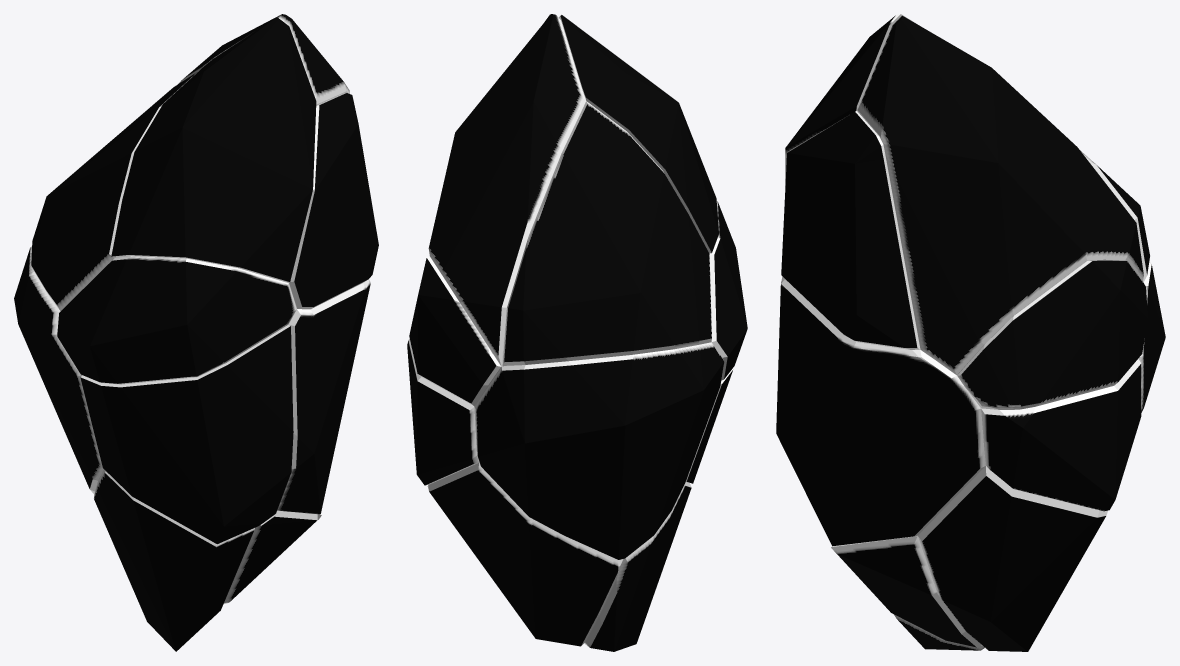
Rendered from CristalBroken.fbx.
The picture shows the model from 3 angles, left to right: view 1: azimuth 30°, elevation 25°; view 2: azimuth 150°, elevation 25°; view 3: azimuth 270°, elevation 25°; orthographic projection. The views are drawn at different scales.
Parts seen in each view (by area): view 1: Cube_cell.001, Cube_cell.008, Cube_cell.009, Cube_cell, Cube_cell.014, Cube_cell.015, Cube_cell.003, Cube_cell.011, Cube_cell.004, Cube_cell.007; view 2: Cube_cell.011, Cube_cell.003, Cube_cell.007, Cube_cell.006, Cube_cell.001, Cube_cell.012, Cube_cell.013, Cube_cell, Cube_cell.009, Cube_cell.008; view 3: Cube_cell.007, Cube_cell.015, Cube_cell.014, Cube_cell.006, Cube_cell.012, Cube_cell.013, Cube_cell.004, Cube_cell.001, Cube_cell.011, Cube_cell.003, Cube_cell.
Boxes of the visible parts, x1,y1,x2,y2 form: Cube_cell.001: (111, 17, 316, 282); Cube_cell.008: (80, 324, 293, 544); Cube_cell.009: (57, 256, 296, 384); Cube_cell: (94, 469, 254, 651); Cube_cell.014: (289, 93, 378, 309); Cube_cell.015: (277, 279, 370, 514); Cube_cell.003: (31, 71, 198, 311); Cube_cell.011: (14, 246, 103, 494); Cube_cell.004: (223, 510, 321, 604); Cube_cell.007: (178, 14, 349, 105); Cube_cell.011: (474, 342, 724, 559); Cube_cell.003: (502, 101, 711, 365); Cube_cell.007: (428, 14, 585, 366); Cube_cell.006: (427, 463, 623, 646); Cube_cell.001: (558, 15, 718, 253); Cube_cell.012: (409, 256, 501, 406); Cube_cell.013: (407, 339, 501, 485); Cube_cell: (584, 481, 691, 651); Cube_cell.009: (709, 201, 747, 380); Cube_cell.008: (686, 367, 733, 483); Cube_cell.007: (857, 15, 1143, 375); Cube_cell.015: (776, 276, 985, 546); Cube_cell.014: (781, 110, 920, 349); Cube_cell.006: (918, 466, 1107, 651); Cube_cell.012: (957, 260, 1147, 409); Cube_cell.013: (981, 359, 1141, 511); Cube_cell.004: (831, 536, 981, 647); Cube_cell.001: (785, 14, 917, 185); Cube_cell.011: (1138, 261, 1165, 412); Cube_cell.003: (1080, 150, 1149, 282); Cube_cell: (894, 614, 984, 650).
Size of the model in its own units: 284 by 550 by 284.
Materials: 1 (1 with a texture image).
